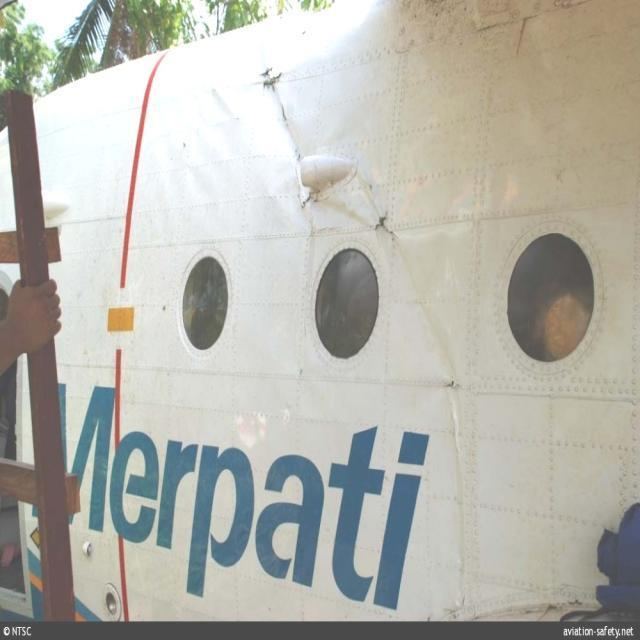crack: (258, 66, 289, 120)
